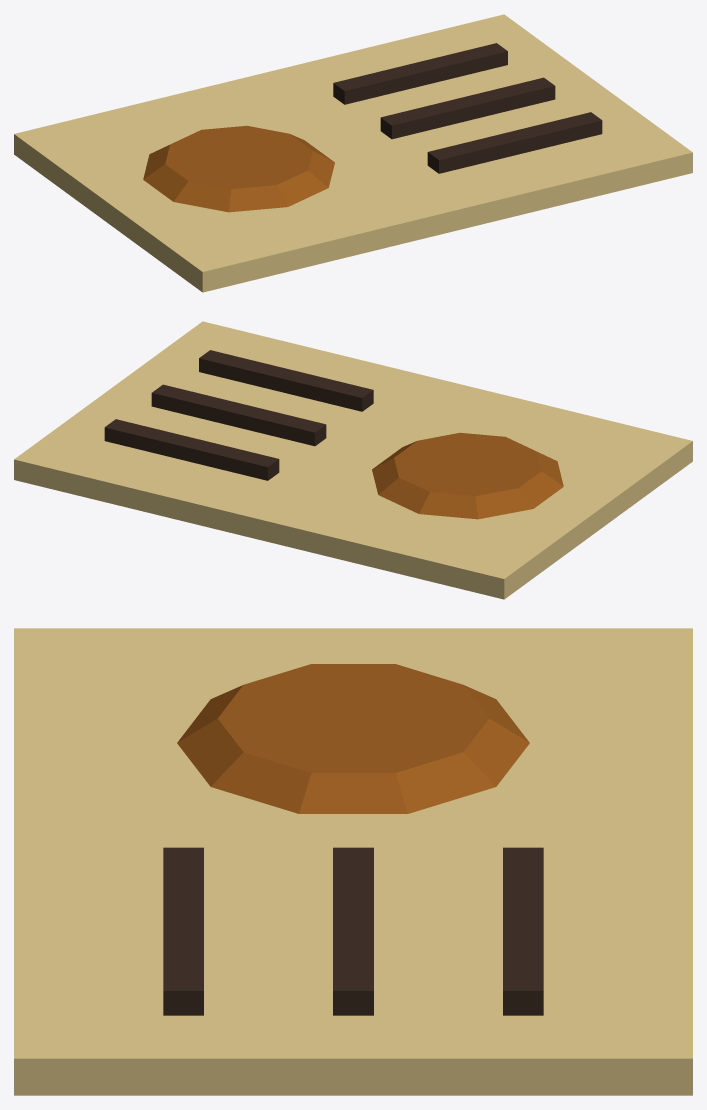
File: flan_recipe.glb
3 views of the same model, one above another, from view 1: azimuth 30°, elevation 25°; view 2: azimuth 150°, elevation 25°; view 3: azimuth 270°, elevation 25° (orthographic). The views are drawn at different scales.
Parts seen in each view (by area): view 1: card_old_paper, drawing_ink (×3), drawing_flan_caramel; view 2: card_old_paper, drawing_ink (×3), drawing_flan_caramel; view 3: card_old_paper, drawing_flan_caramel, drawing_ink (×3).
Part boxes in pixels (x1,y1,x2,y2): card_old_paper: (14,14,692,292); drawing_ink (×3): (333,43,602,173); drawing_flan_caramel: (143,125,334,212); card_old_paper: (14,321,692,599); drawing_ink (×3): (104,350,373,480); drawing_flan_caramel: (372,432,563,519); card_old_paper: (14,628,692,1095); drawing_flan_caramel: (177,664,529,813); drawing_ink (×3): (163,847,543,1015).
Bounding box in the file's own units: 0.15 × 0.01 × 0.1.
